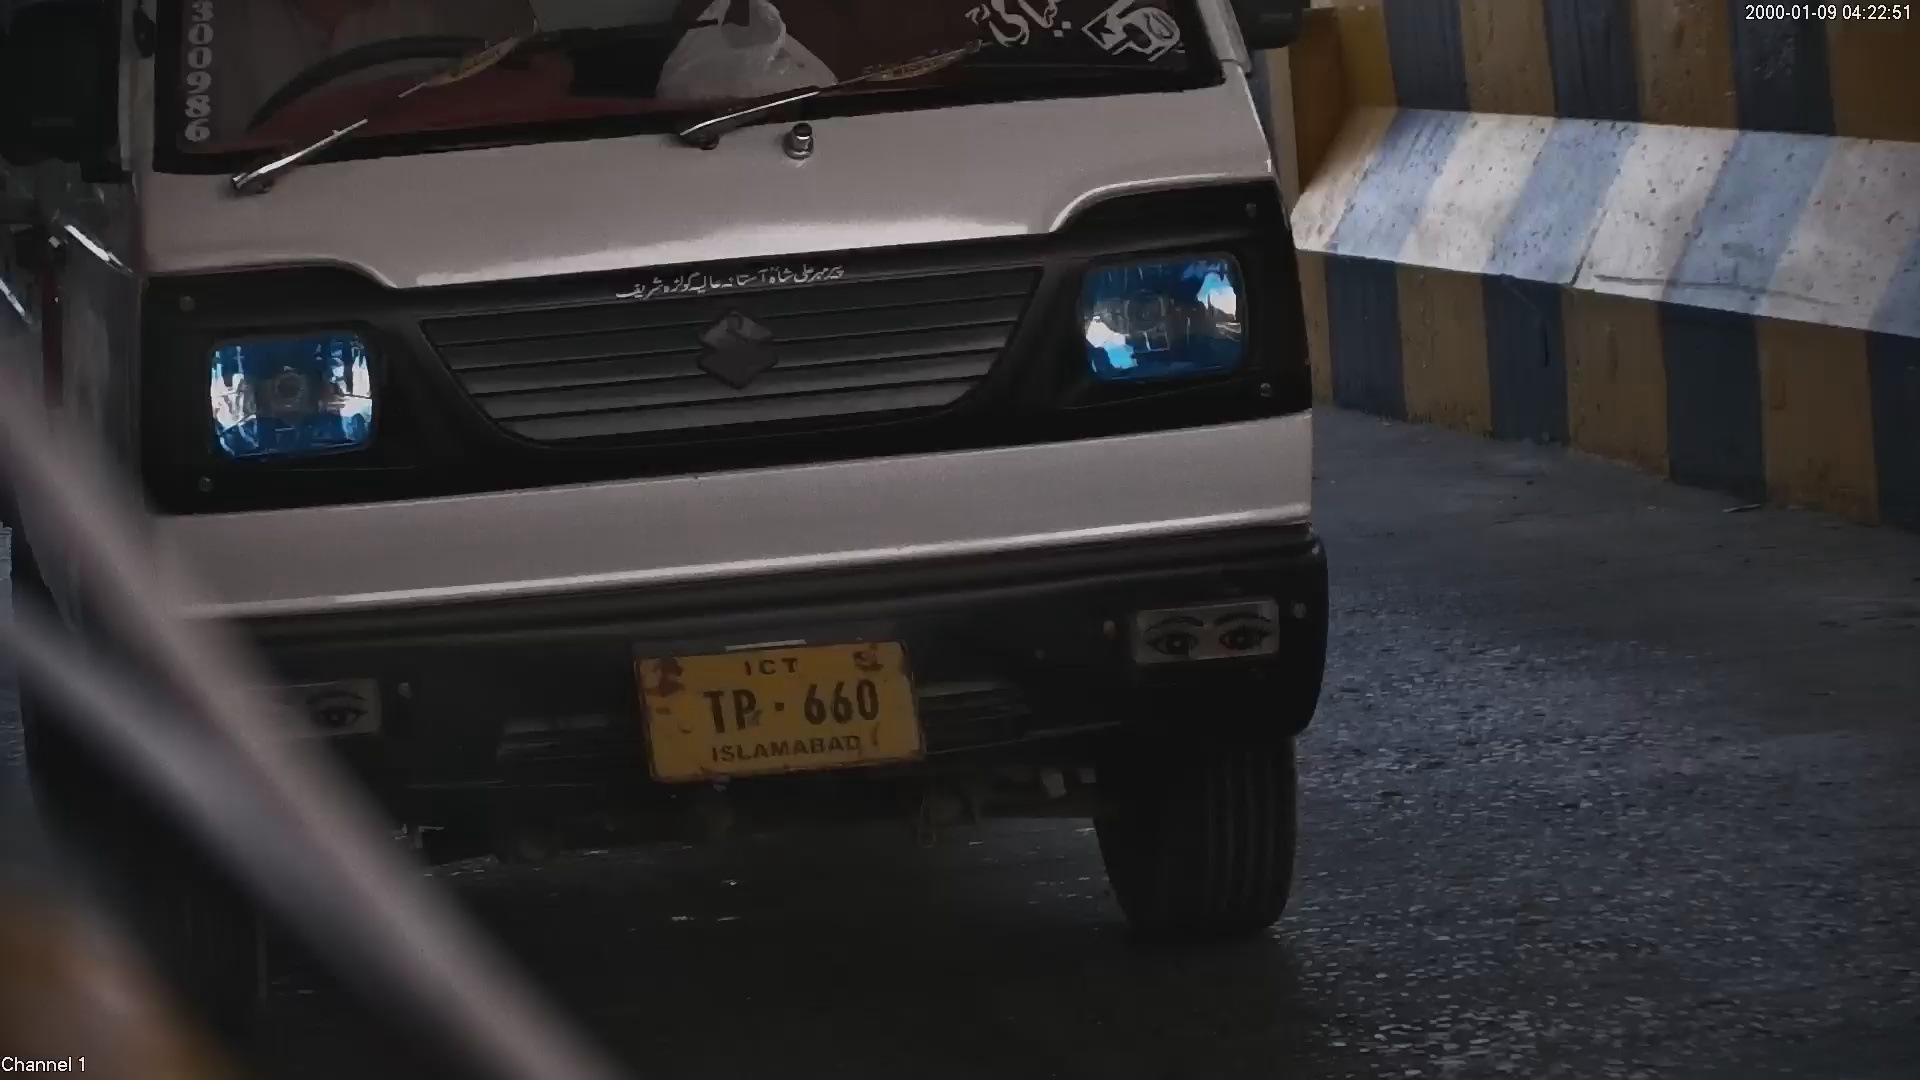Number_Plate: (610, 623, 945, 775)
Undefined: (178, 318, 389, 477), (1060, 233, 1258, 403), (1106, 583, 1293, 670), (604, 253, 858, 309), (219, 666, 391, 742)
